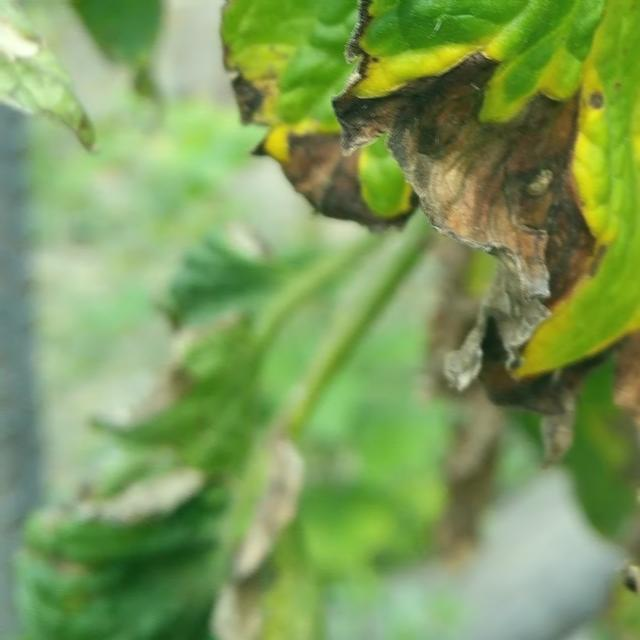Tomato leaf bacterial spot: (333, 0, 640, 576), (171, 0, 640, 247)
